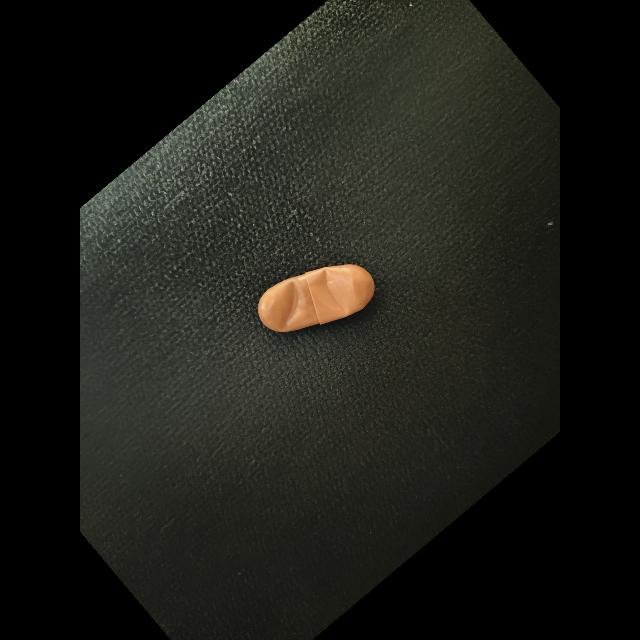Defective Capsule: (309, 267, 357, 317), (280, 279, 304, 330)
